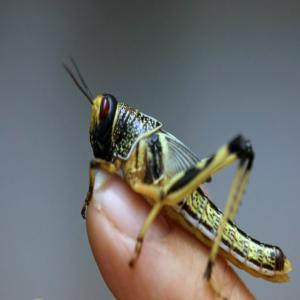locust: (77, 70, 293, 271)
